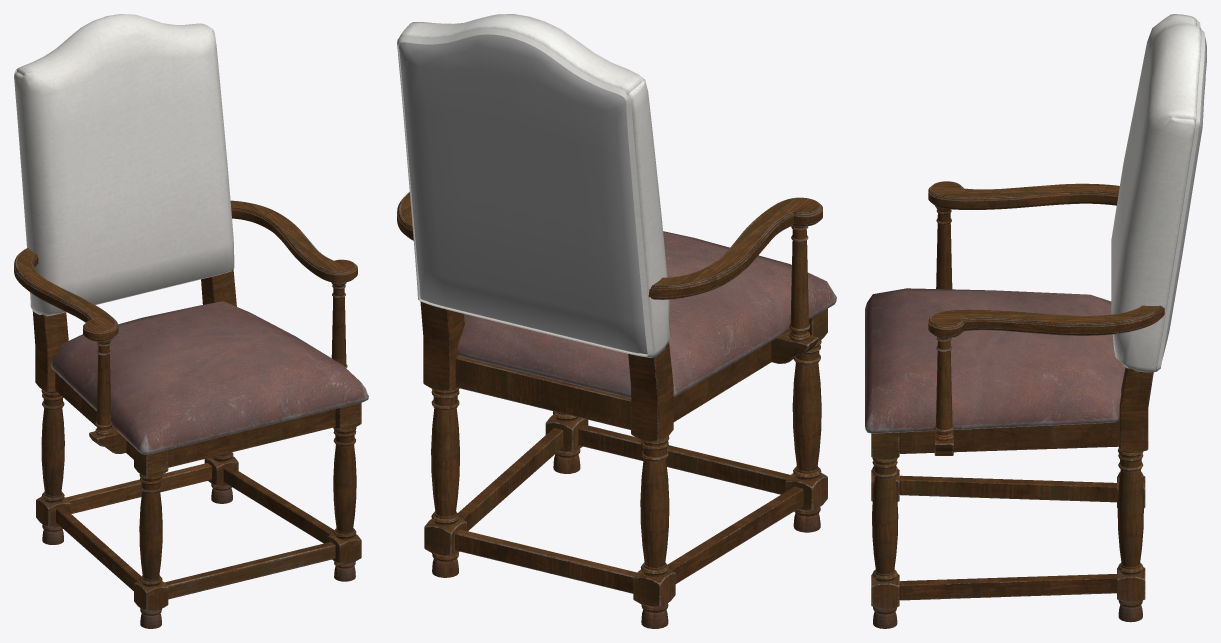
3 renders of one model, left to right at view 1: azimuth 30°, elevation 25°; view 2: azimuth 150°, elevation 25°; view 3: azimuth 270°, elevation 25°, orthographic. The views are drawn at different scales.
Visible parts, largest first — view 1: Box008, 对象012; view 2: Box008, 对象012; view 3: Box008, 对象012.
Boxes of the visible parts, bbox=[...] form: Box008: bbox=[14, 14, 368, 454]; 对象012: bbox=[14, 200, 361, 628]; Box008: bbox=[397, 14, 836, 398]; 对象012: bbox=[397, 192, 827, 628]; Box008: bbox=[865, 14, 1206, 433]; 对象012: bbox=[871, 181, 1164, 628].
Size of the model in its own units: 626 by 1069 by 615.
Materials: 2 (2 with a texture image).
